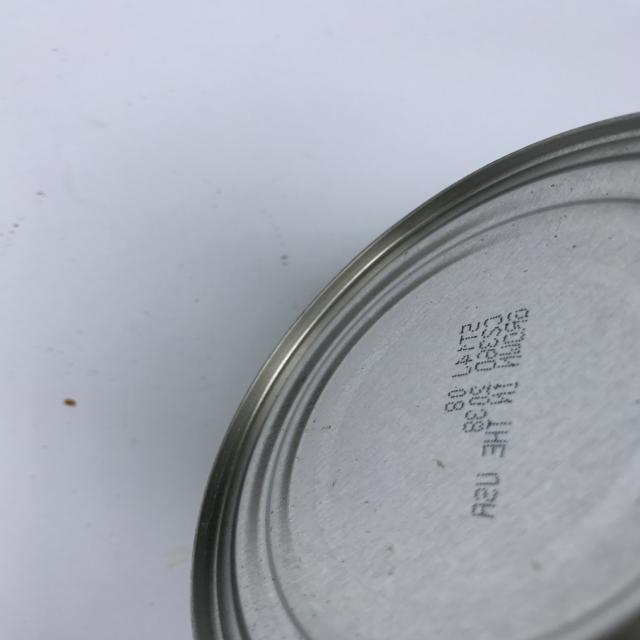metal: (189, 110, 640, 640)
